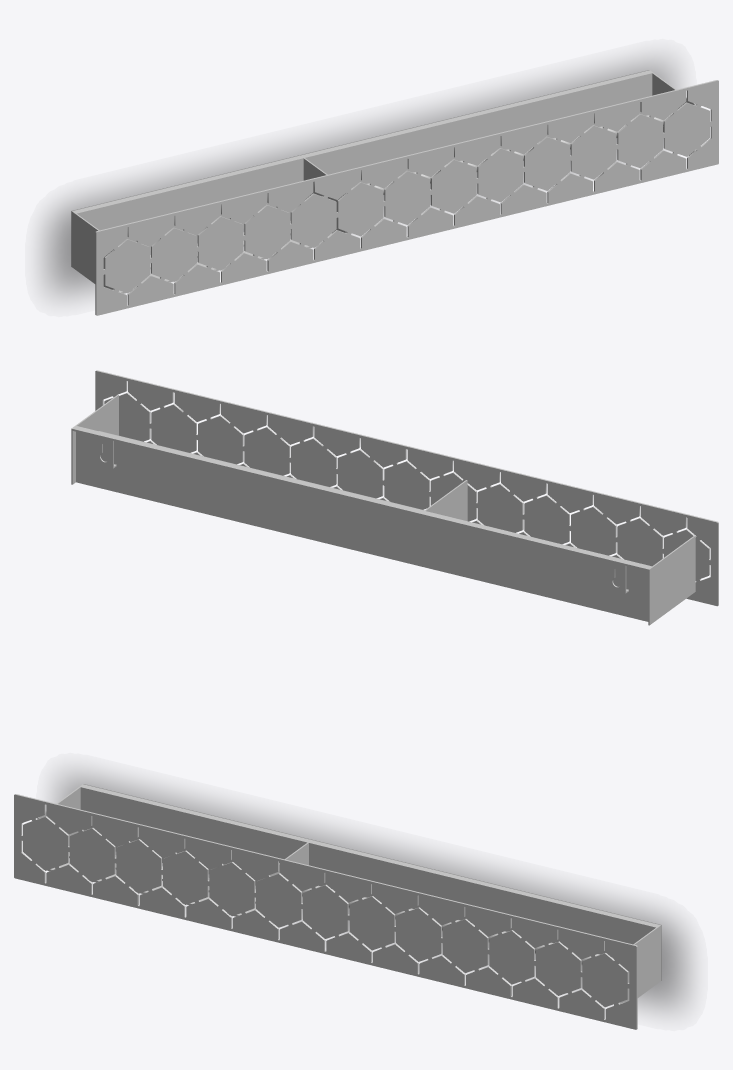
The model's file is bee-double.ccad8dbc6b.ar.glb.
3 renders of one model, top to bottom at view 1: azimuth 30°, elevation 25°; view 2: azimuth 150°, elevation 25°; view 3: azimuth 330°, elevation 25°, orthographic.
Parts seen in each view (by area): view 1: NAUO1, object 2; view 2: NAUO1; view 3: NAUO1, object 2.
Boxes of the visible parts, x1,y1,x2,y2 form: NAUO1: (71, 70, 718, 315); object 2: (42, 59, 678, 296); NAUO1: (71, 370, 718, 625); NAUO1: (14, 784, 661, 1029); object 2: (54, 773, 690, 1010).
Size of the model in its own units: 0.78 by 0.17 by 0.092.
Materials: 2 (1 with a texture image).
